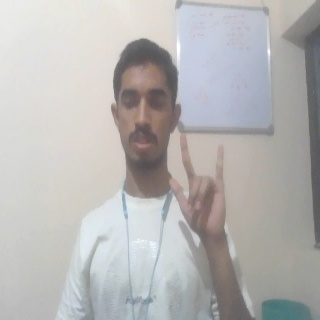Face: (108, 37, 182, 172)
I Love You: (167, 131, 233, 244)
